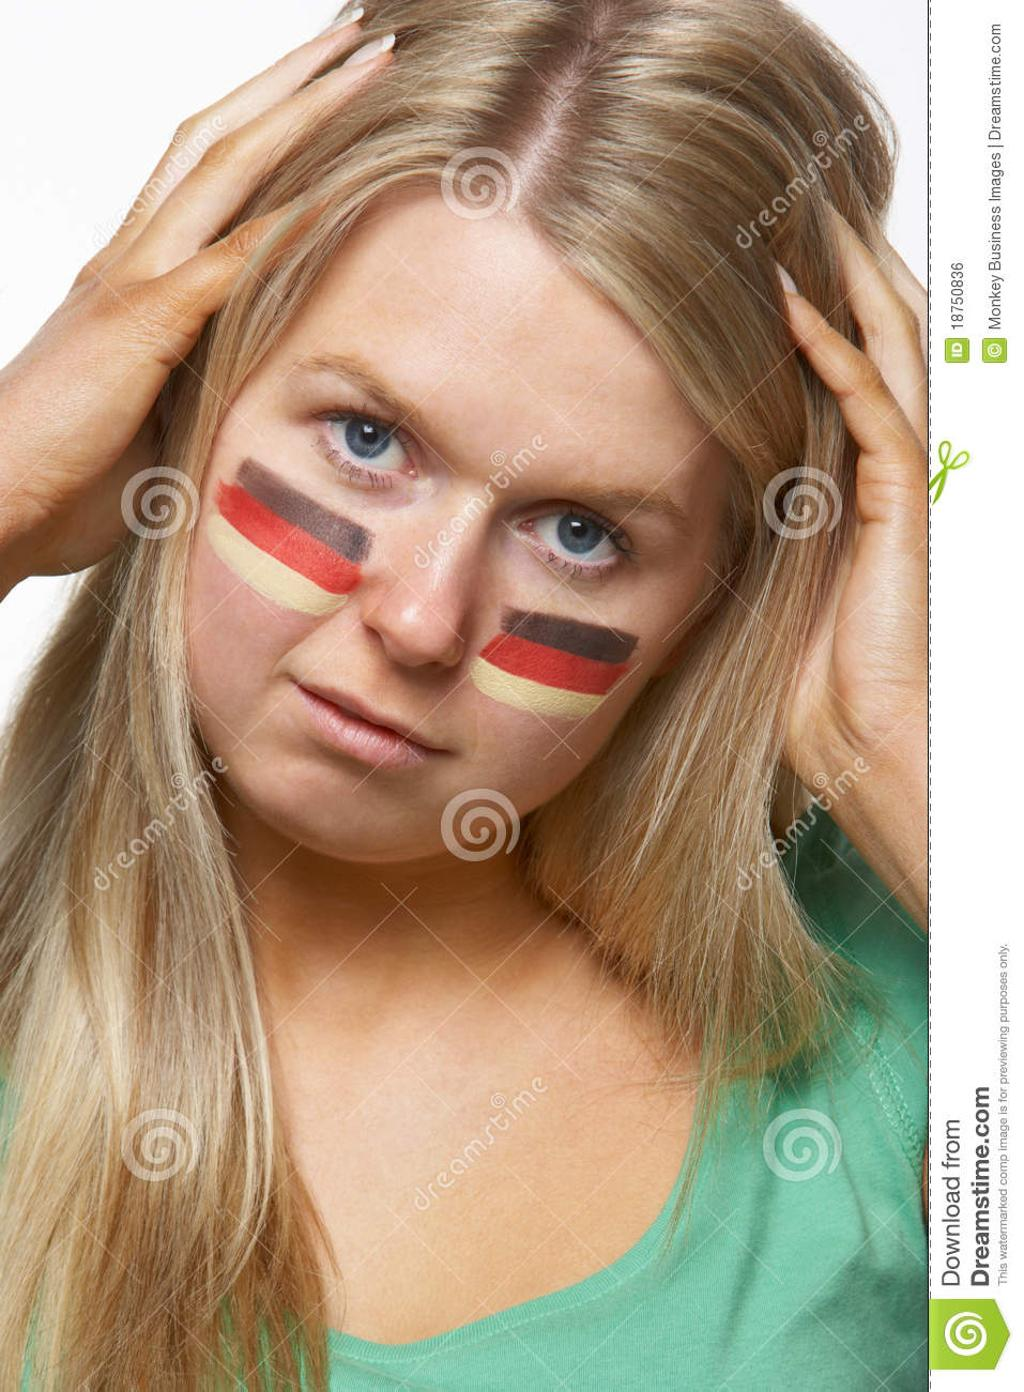face: (174, 198, 712, 863)
